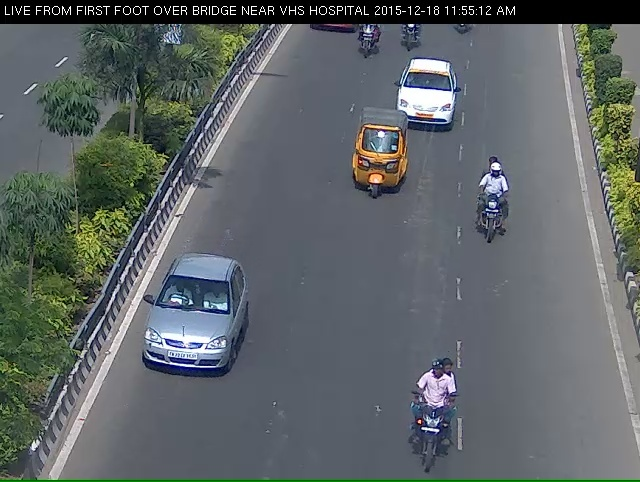Auto: (343, 116, 408, 241)
Car: (119, 269, 249, 413), (387, 61, 462, 146)
Person: (397, 376, 459, 477), (470, 162, 513, 270), (348, 19, 384, 74), (391, 19, 425, 65)
